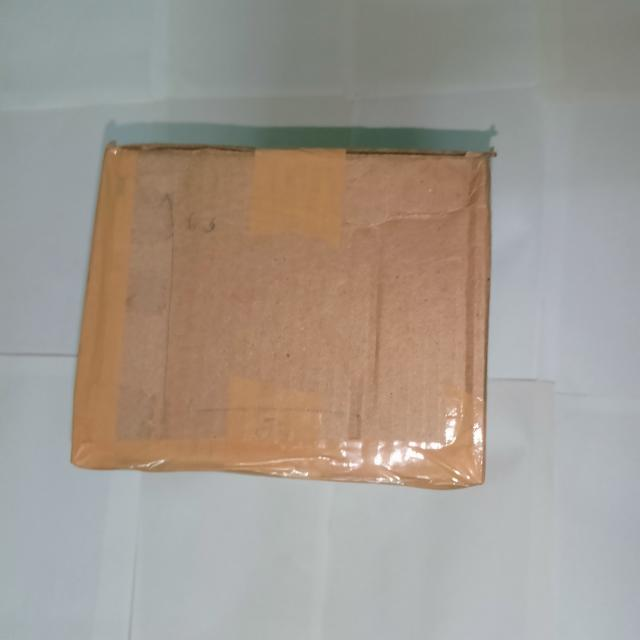box: (71, 145, 487, 469)
